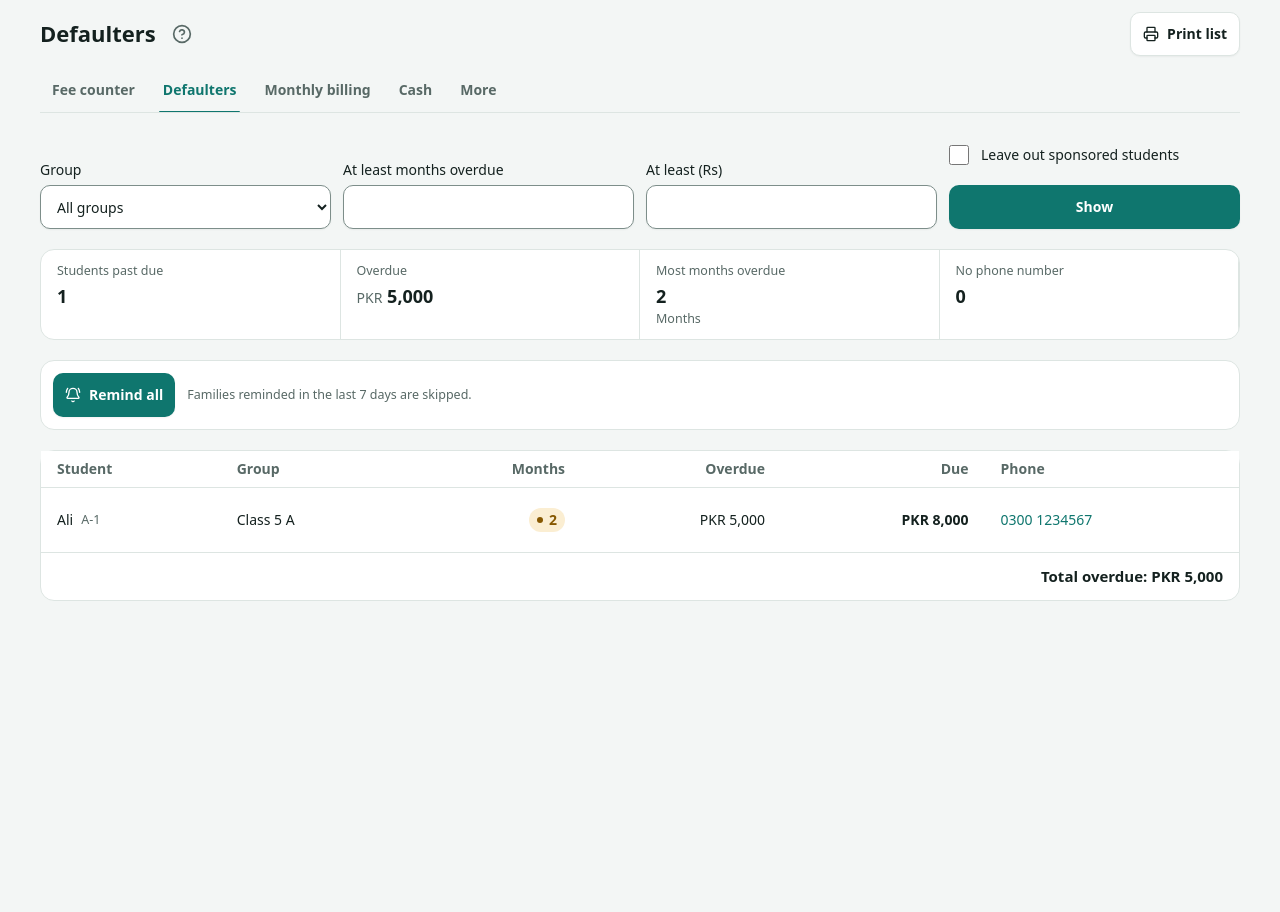
defaulters › office: net due and the guardian phone; Remind all shows the queued count and cooldown
Expected: the text "0300 1234567" is shown, [1001,510,1092,530]
Expected: the text "PKR 8,000" is shown, [902,510,969,529]
Click the button with id "remind-all" at [114, 395], box [53,373,175,417]
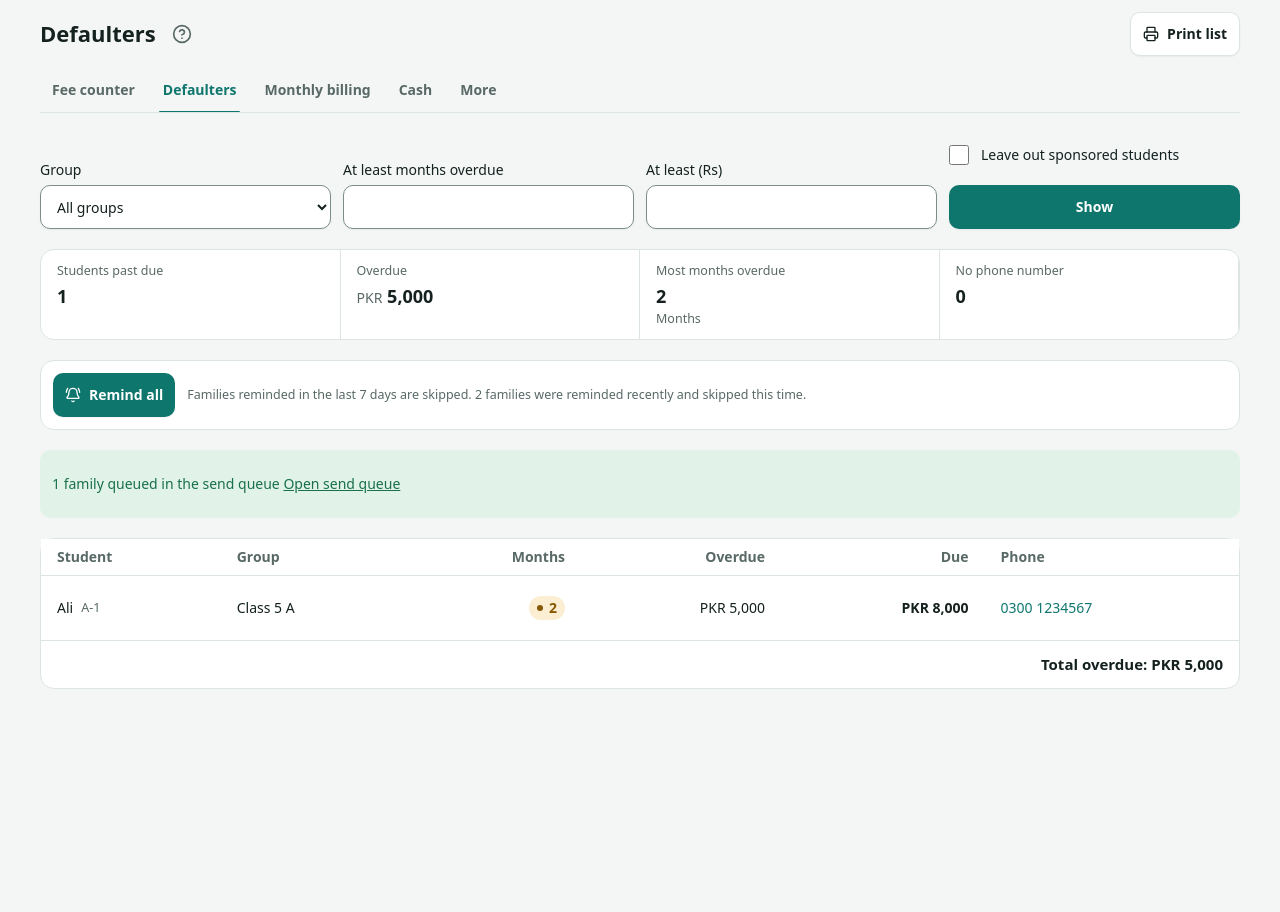
Now the text "1 family queued in the send queue" is shown, box [52,474,280,493]
Now the text with id "remind-cooldown" shows "2 families were reminded recently and skipped this time.", box [475,386,806,403]
